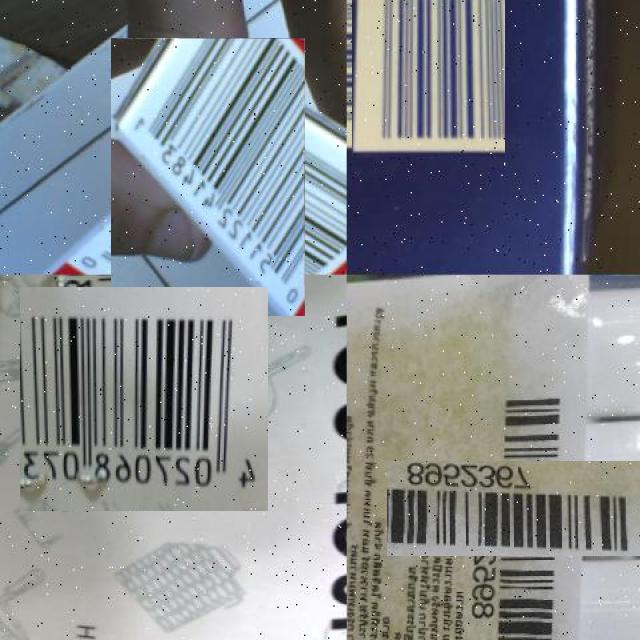Barcode: (90, 59, 326, 296), (26, 281, 262, 518), (428, 418, 608, 598), (350, 0, 507, 155)
